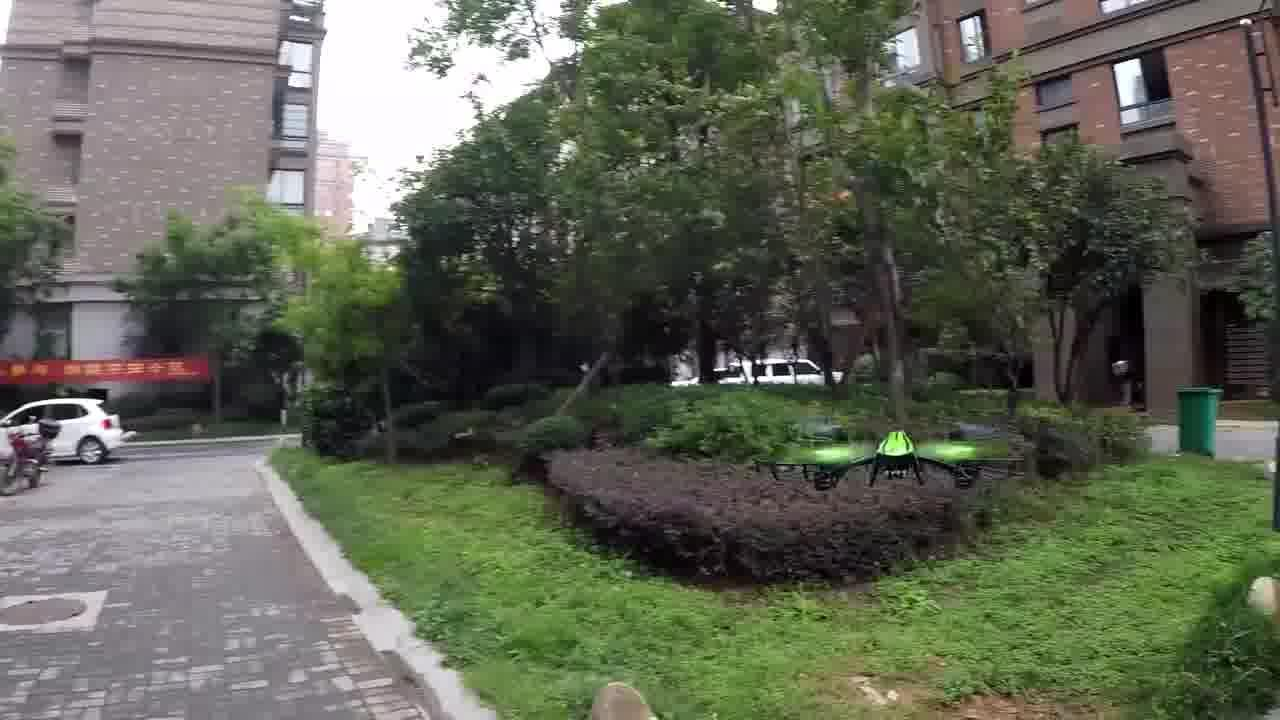drone: (766, 425, 1013, 495)
